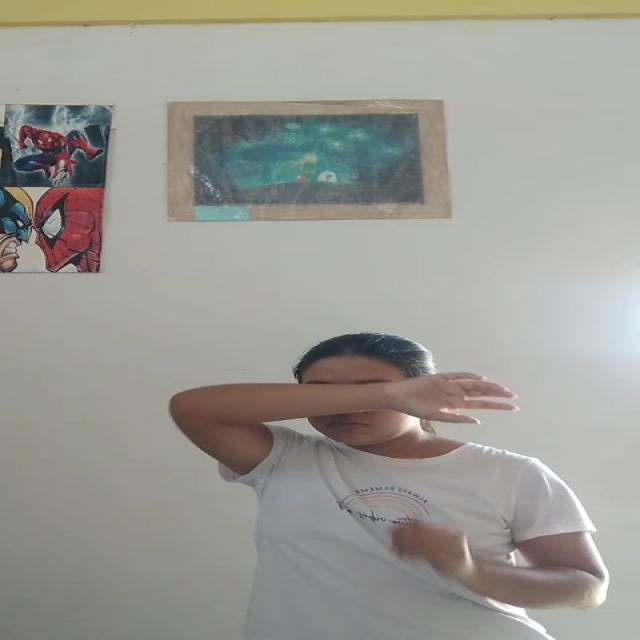7_mano_rostro: (251, 368, 455, 423)
